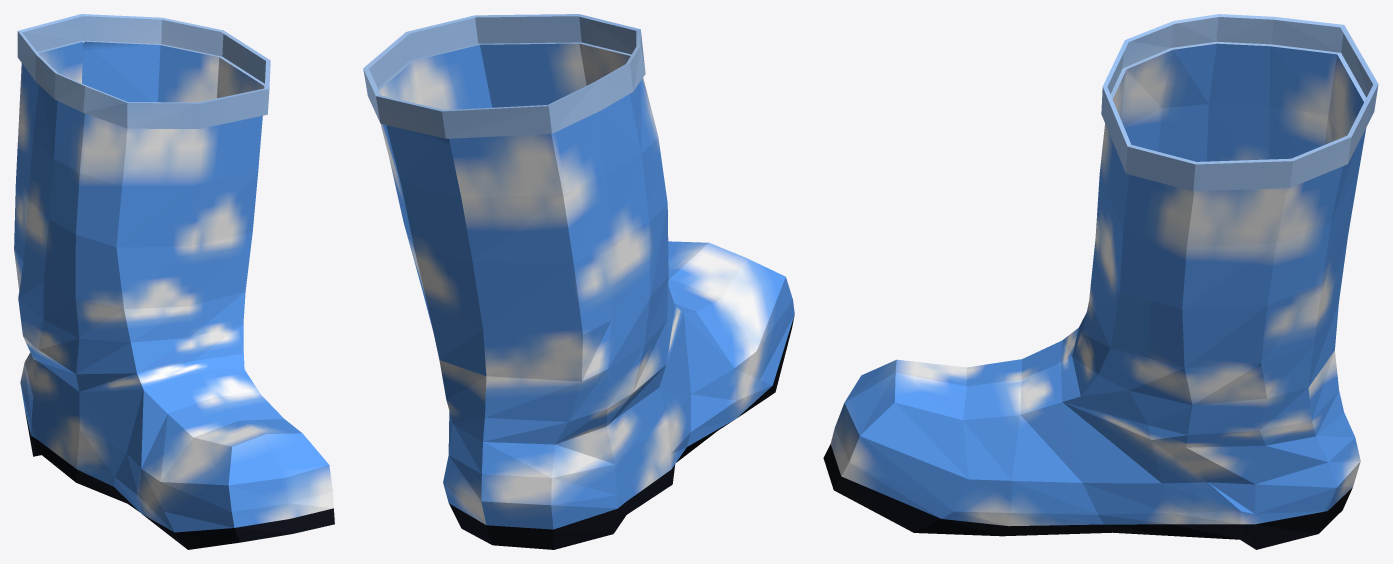
Rendered from Sky Boots.fbx.
3 renders of one model, left to right at view 1: azimuth 30°, elevation 25°; view 2: azimuth 150°, elevation 25°; view 3: azimuth 270°, elevation 25°, orthographic. The views are drawn at different scales.
Parts seen in each view (by area): view 1: Cube; view 2: Cube; view 3: Cube.
Boxes of the visible parts, x1,y1,x2,y2 form: Cube: (14,14,334,549); Cube: (363,14,794,549); Cube: (823,14,1378,549).
Bounding box in the file's own units: 19.9 × 34.72 × 37.6.
